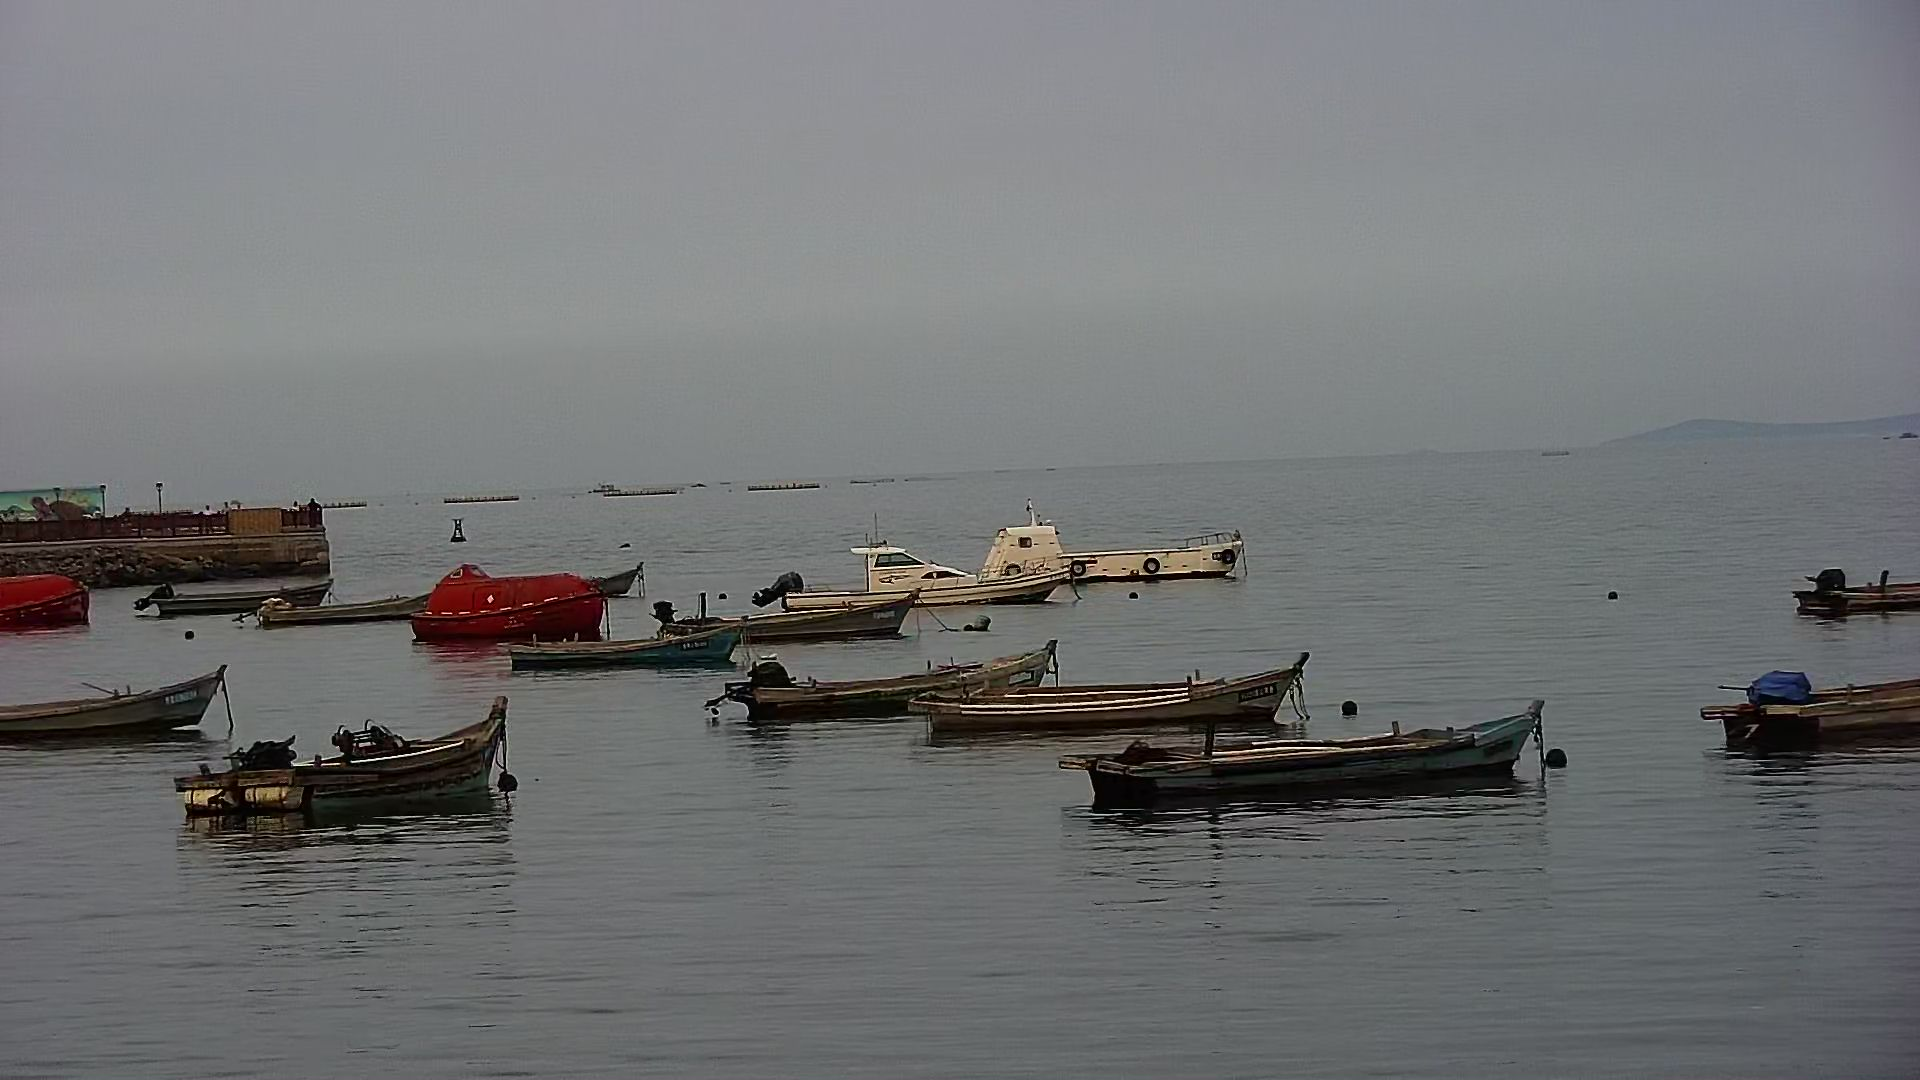ball: (1543, 742, 1581, 794)
boat: (171, 694, 530, 820), (919, 644, 1308, 758), (1069, 704, 1549, 796), (717, 634, 1054, 740), (993, 512, 1240, 603), (786, 545, 1065, 618), (4, 665, 237, 752), (414, 568, 621, 659), (665, 588, 927, 649), (509, 621, 738, 684), (262, 576, 488, 640), (158, 571, 327, 626)
